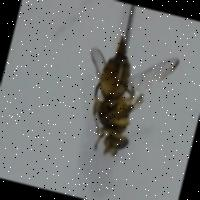Oriental-fruit-fly: (56, 18, 190, 178)
